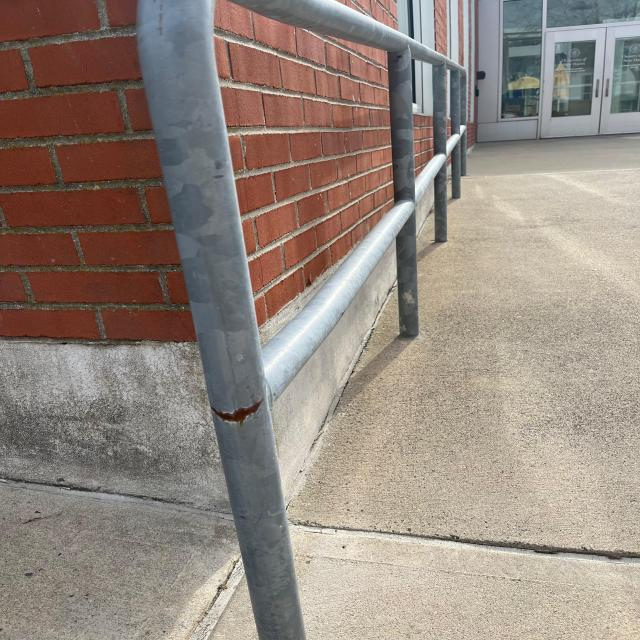Uniform Corrosion: (207, 397, 270, 445)
